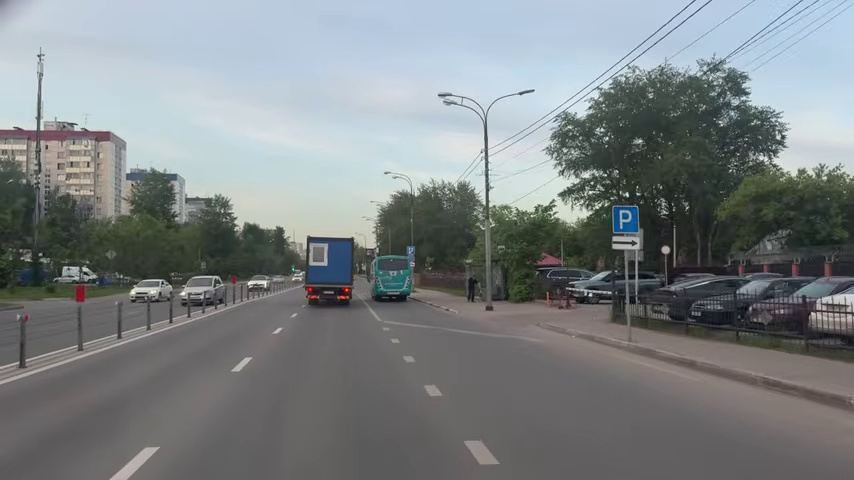apagada: (438, 90, 461, 109), (517, 85, 536, 99)
